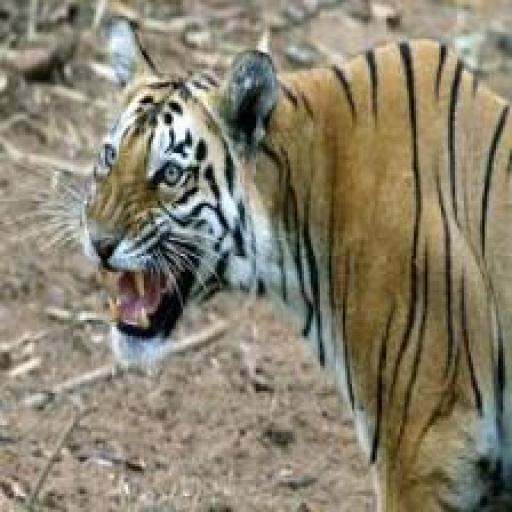Tiger: (84, 20, 512, 509)
